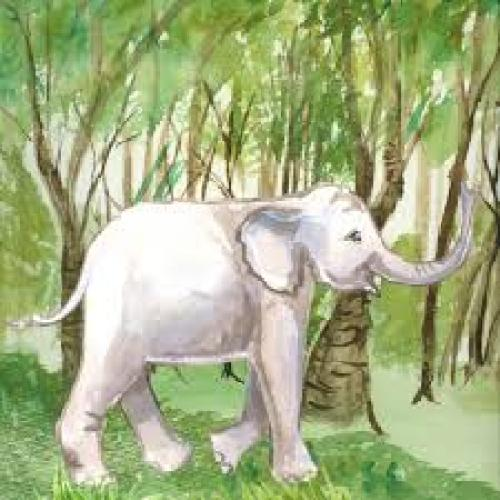asian_elephant-endangered: (39, 183, 474, 476)
